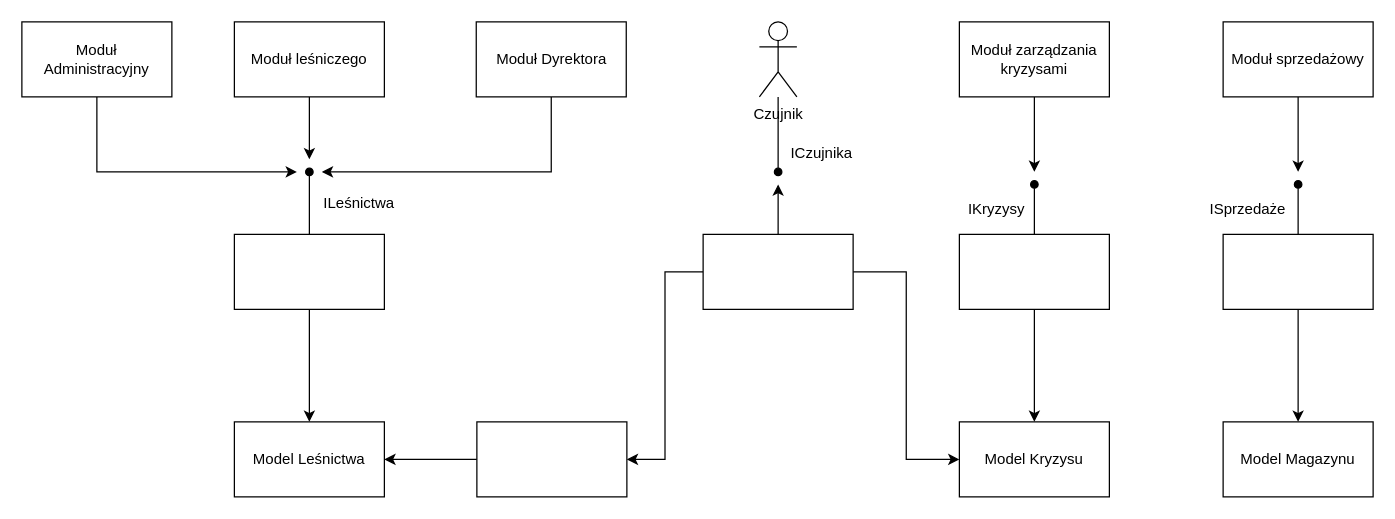
Image size: 1395x519. Some labels were removed from this diagram. Here are the shapes that lost their labels. From the top down, the box of each, then its label:
(233, 233, 384, 309): Kontroler Leśnictw
(702, 233, 853, 309): Klient Czujnika
(958, 233, 1109, 309): Kontroler Kryzysów
(1222, 233, 1373, 309): Kontroler Sprzedaży
(476, 421, 627, 497): Model Czujnikowych Danych Leśnictwa
